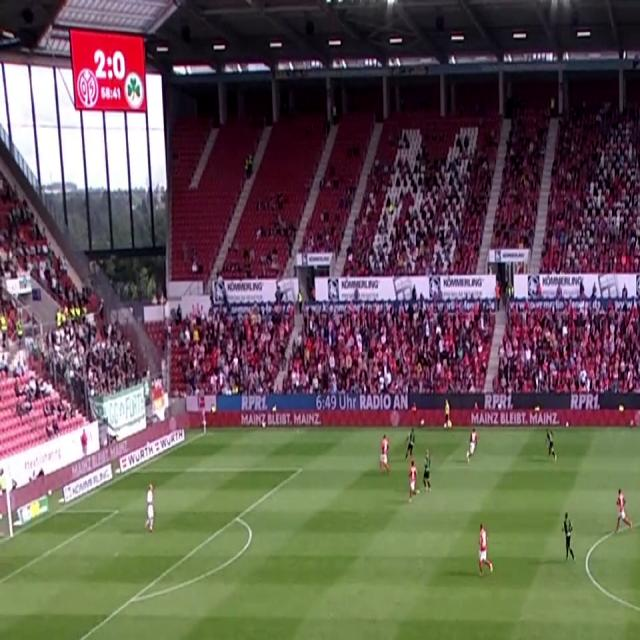goalkeeper: (139, 477, 163, 537)
soccer-player: (474, 522, 499, 582), (612, 486, 638, 539), (558, 510, 580, 570), (414, 448, 438, 498), (406, 452, 426, 506), (375, 430, 394, 477), (466, 424, 484, 466), (544, 427, 562, 465)
